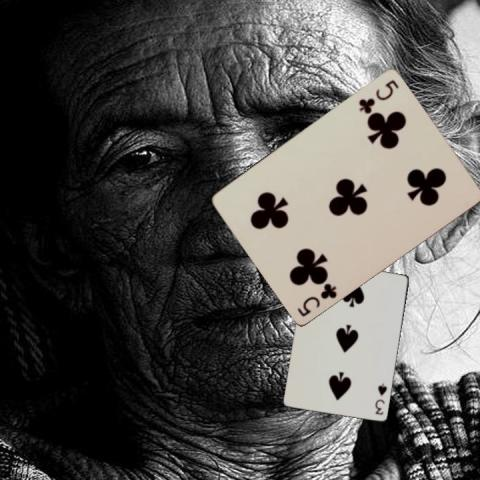3s: (372, 380, 389, 416)
5c: (294, 279, 339, 318), (355, 76, 401, 114)
